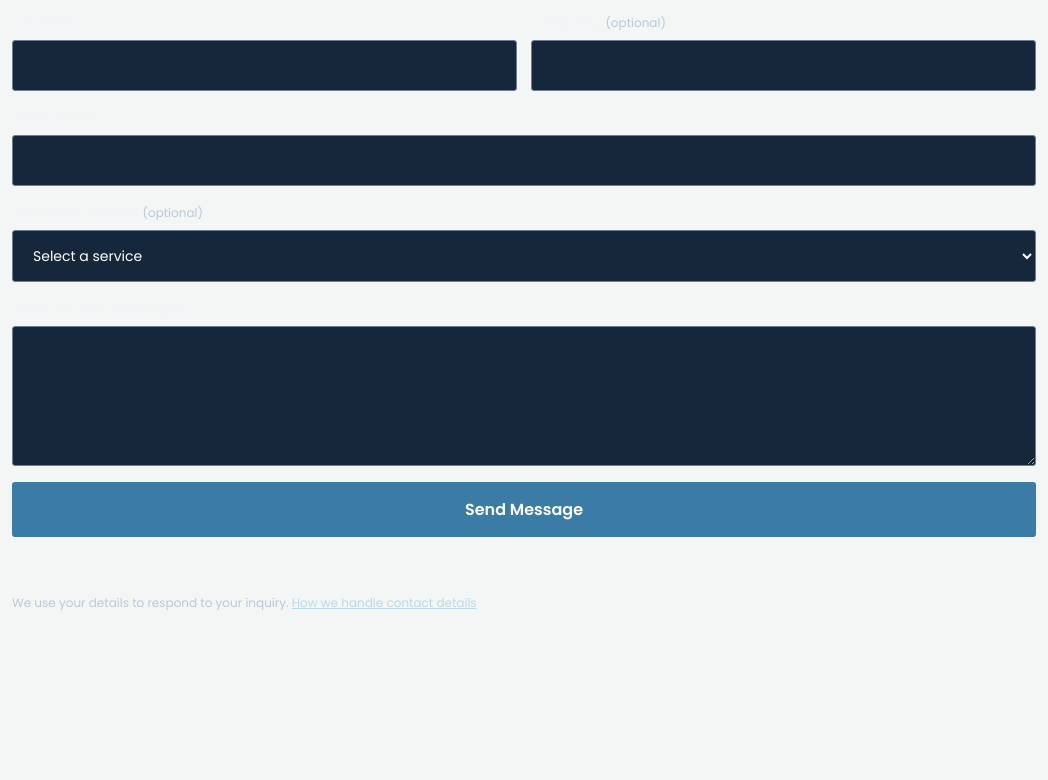
Scenario: announces a safe failure and offers a clickable email fallback
The width and height of the screenshot is (1048, 780).
Type "Ada Example" into the field with id "contact-name" at (264, 66), box left=12, top=40, right=517, bottom=91
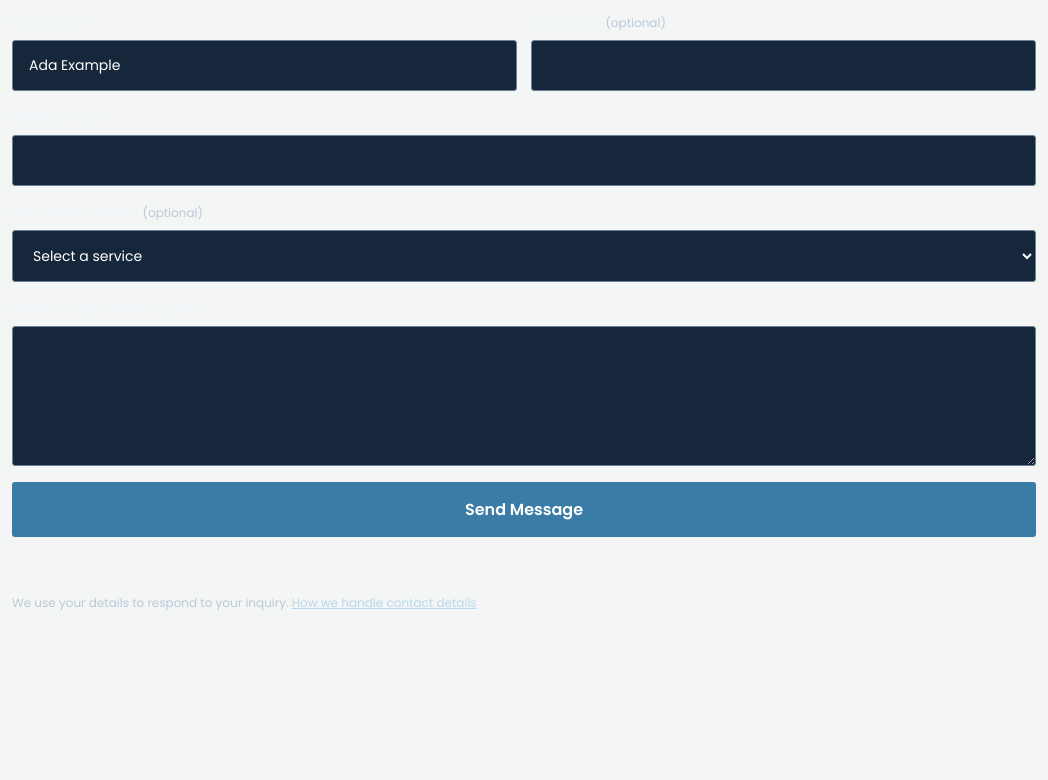
Type "ada@example.com" into the field with id "contact-email" at (524, 160), box left=12, top=135, right=1036, bottom=186
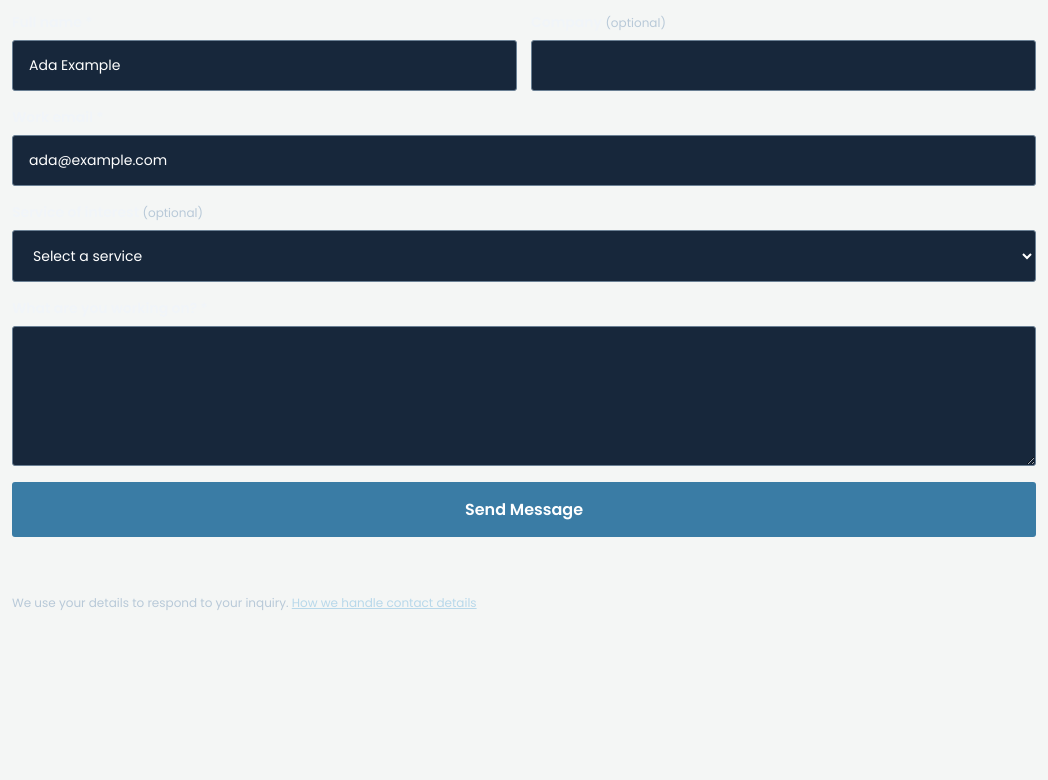
Type "Please discuss our new application." into the text box with id "contact-message" at (524, 396), box left=12, top=326, right=1036, bottom=466
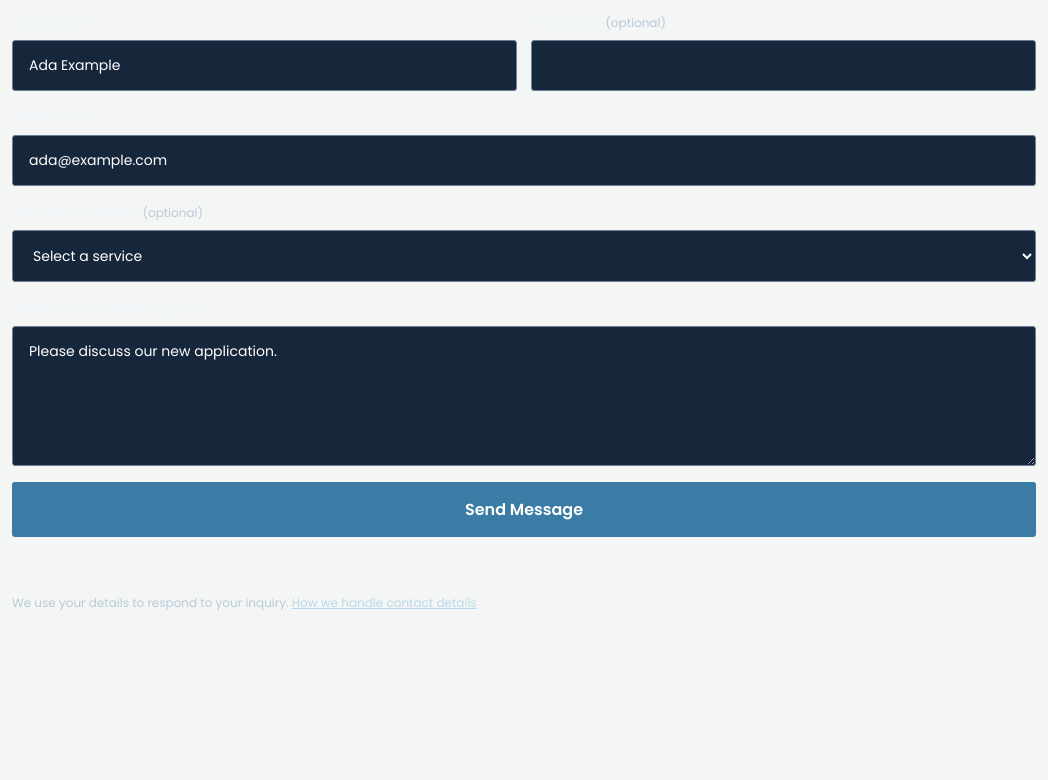
Submit the form
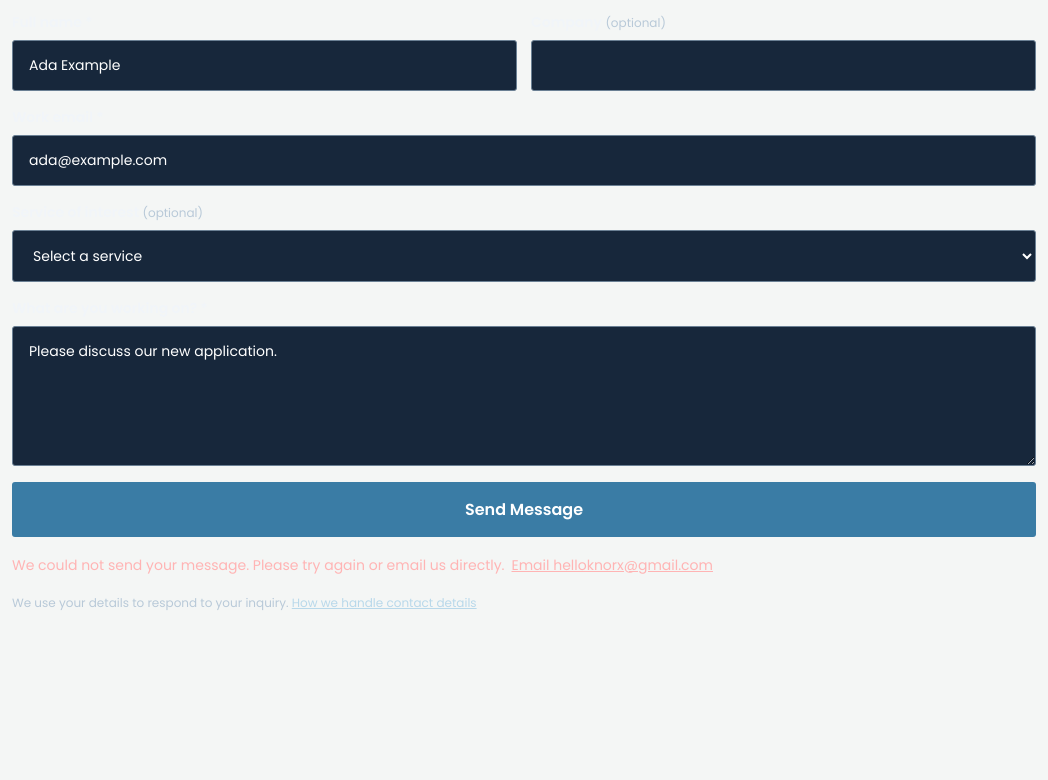
Check: the message shows "could not send", box left=12, top=554, right=504, bottom=574
